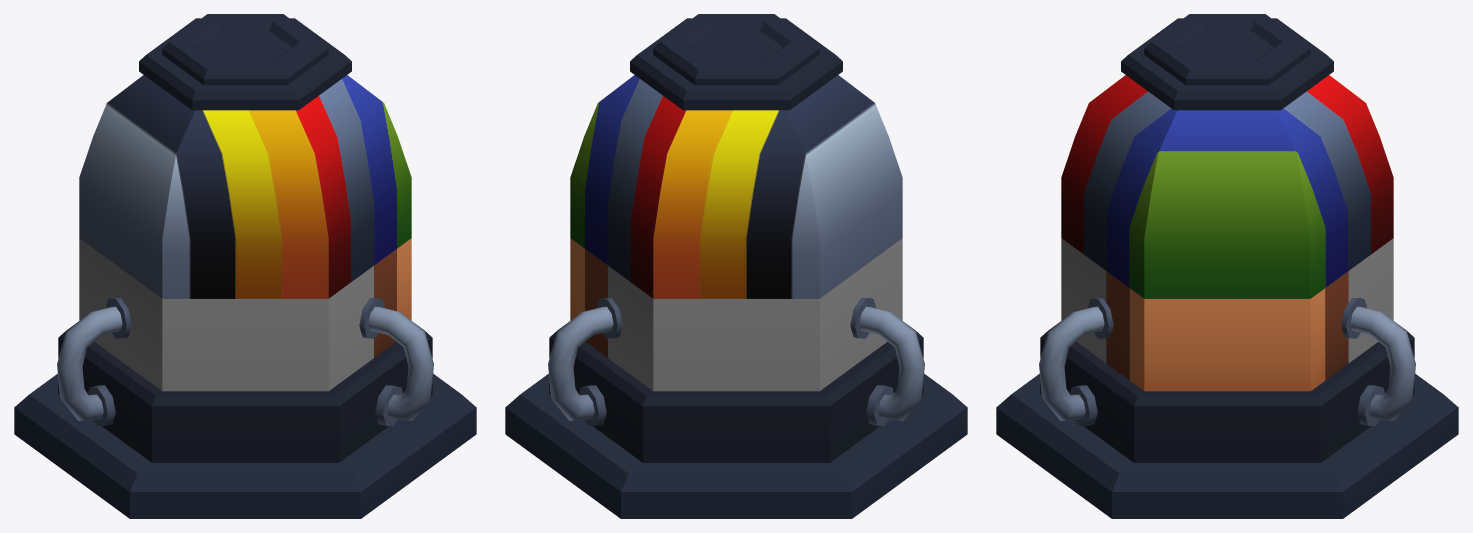
Rendered from Tank 01.FBX.
3 renders of one model, left to right at view 1: azimuth 30°, elevation 25°; view 2: azimuth 150°, elevation 25°; view 3: azimuth 270°, elevation 25°, orthographic.
Parts seen in each view (by area): view 1: Tank 01 Glass, Tank 01; view 2: Tank 01 Glass, Tank 01; view 3: Tank 01 Glass, Tank 01.
Boxes of the visible parts, box(x1,y1,x2,y2) form: Tank 01 Glass: box(79, 75, 411, 391); Tank 01: box(14, 14, 476, 518); Tank 01 Glass: box(570, 75, 902, 391); Tank 01: box(505, 14, 967, 518); Tank 01 Glass: box(1061, 75, 1393, 391); Tank 01: box(996, 14, 1458, 518).
Bounding box in the file's own units: 291 × 303 × 323.
1 material, 1 textured.
